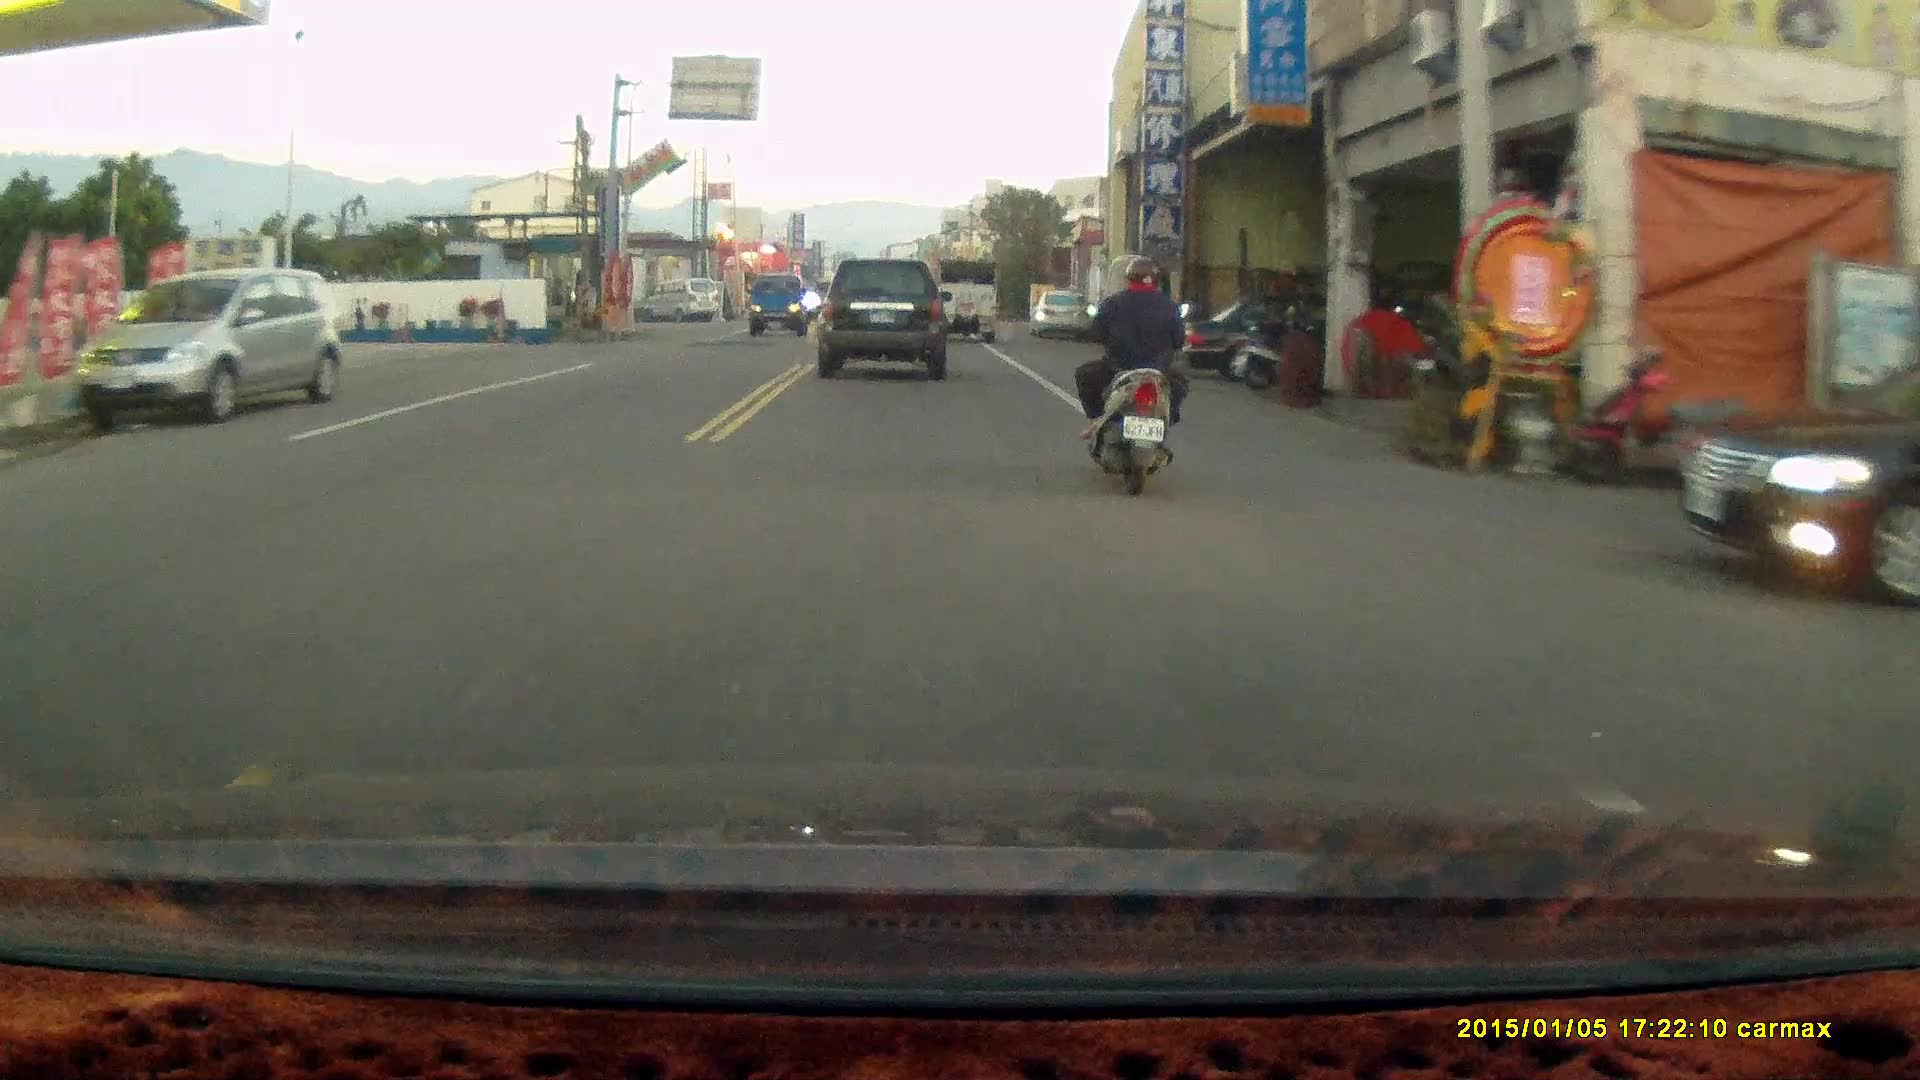rider: (1071, 254, 1184, 495)
vehicle: (1678, 356, 1920, 610), (62, 269, 344, 427), (1178, 289, 1400, 384), (814, 260, 953, 387), (928, 259, 1001, 344), (746, 274, 812, 339), (637, 281, 721, 325), (1030, 290, 1085, 340)
